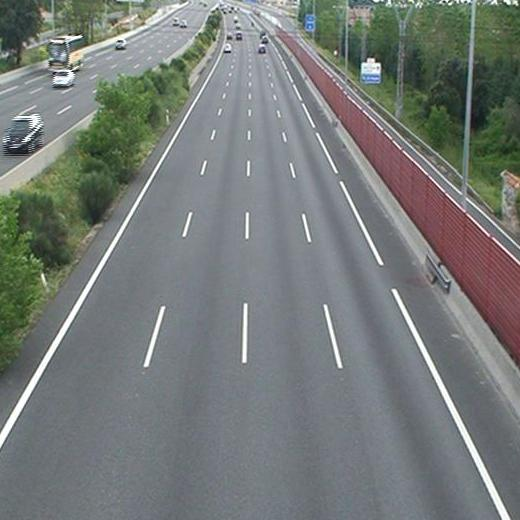car: (224, 42, 232, 52), (258, 45, 266, 53)
